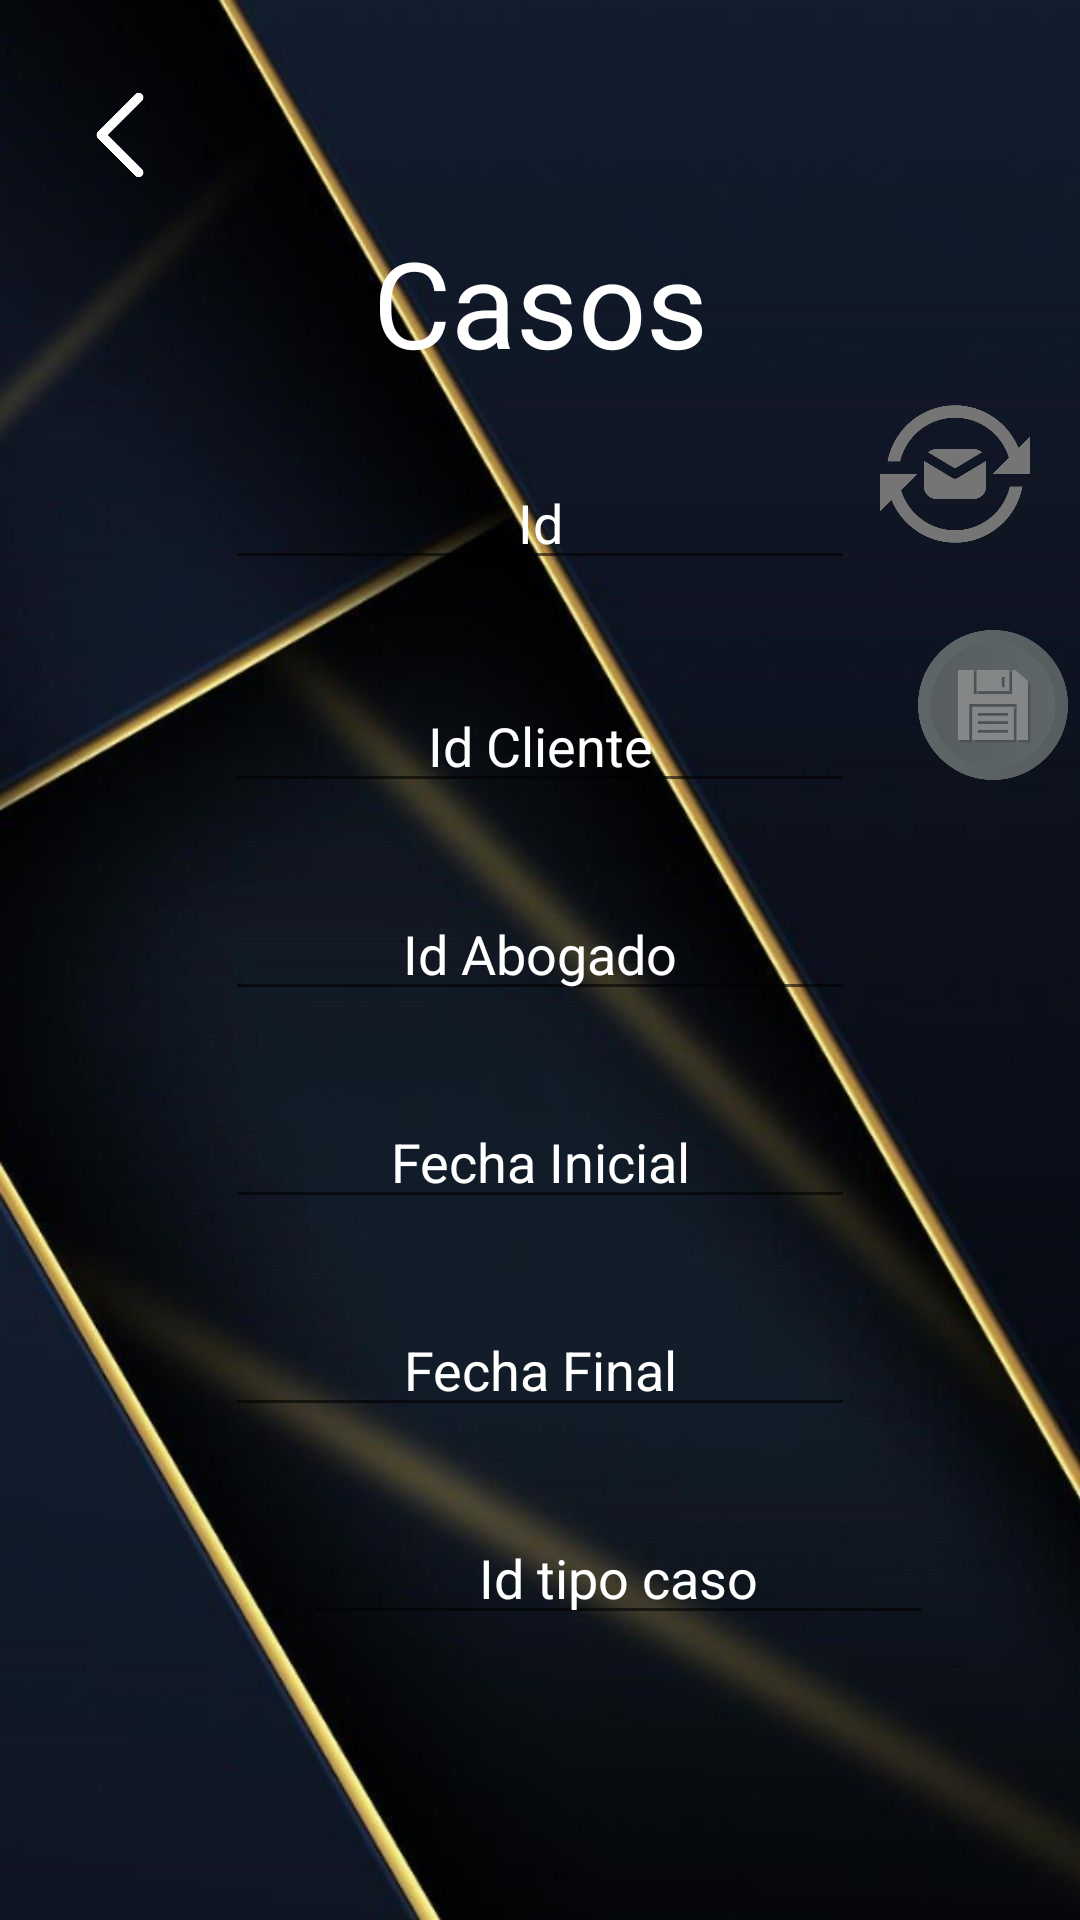

Point at icon controls on the screen. Image size 1080×1920, points as [x,y].
actualizar: [955,474]
guardar: [993,705]
